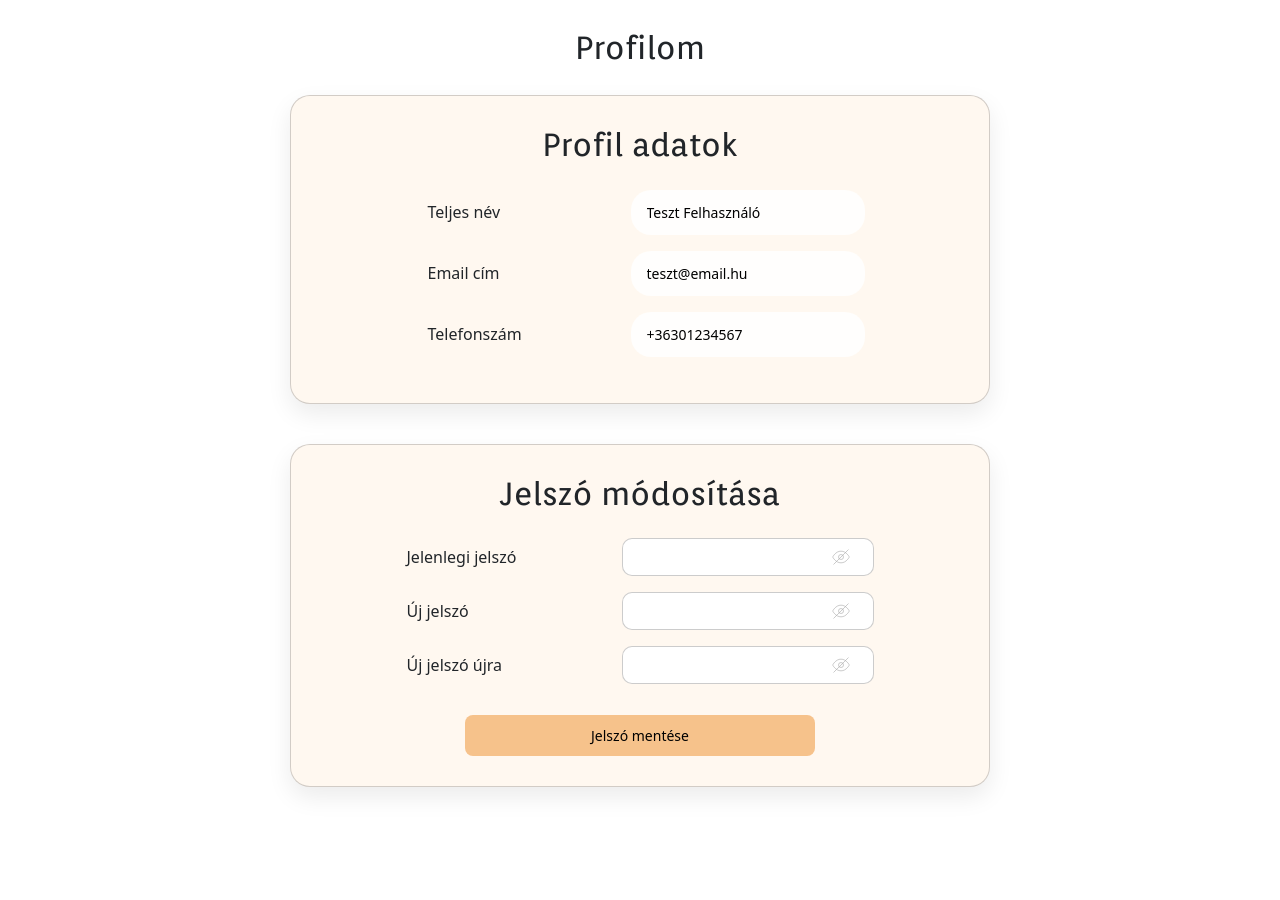
Profile › nem egyező jelszó hiba
Type "old123" into the password field next to "Jelenlegi jelszó" at (748, 557), box [622,538,874,576]
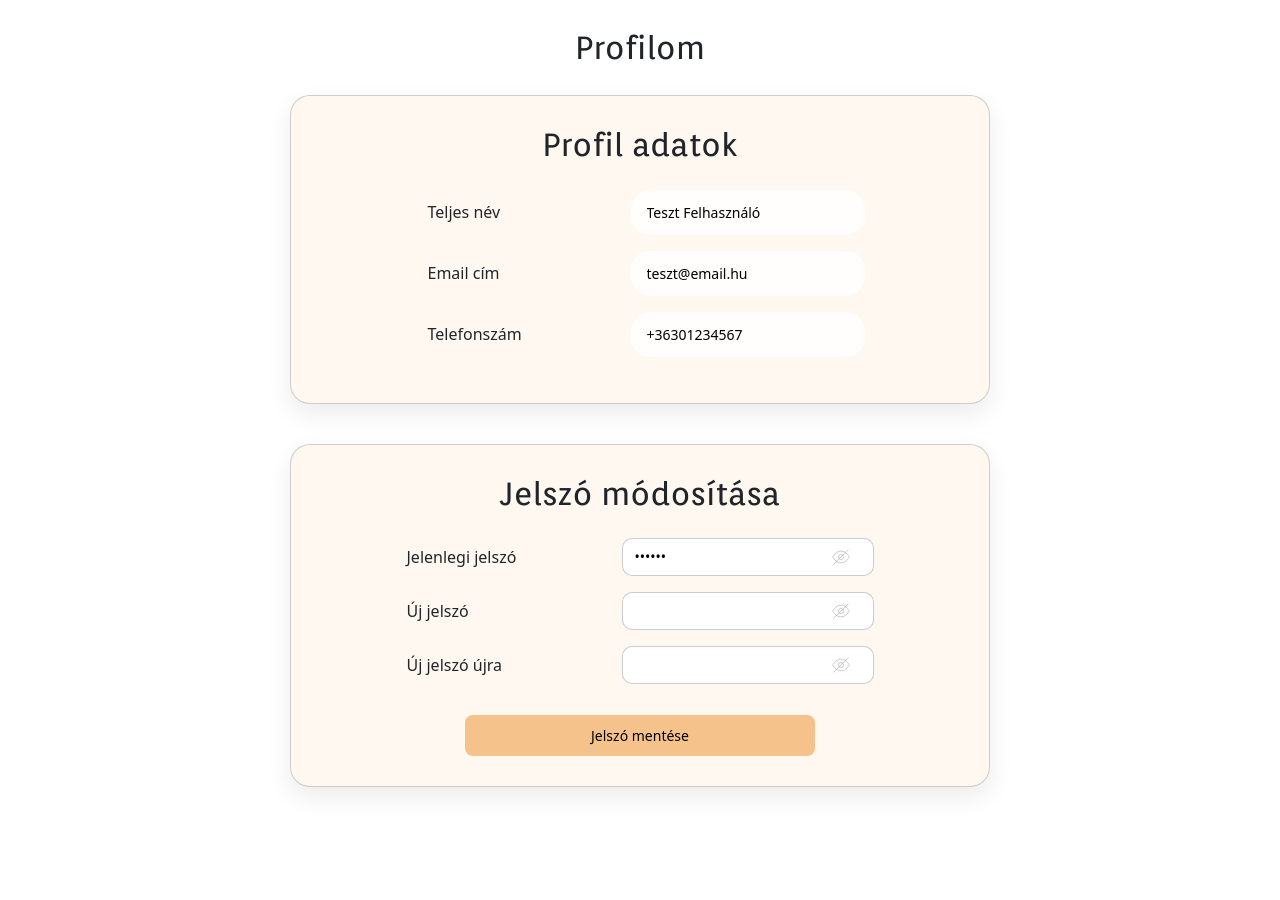
Type "new123456" into the 2nd password field at (748, 611), box [622,592,874,630]
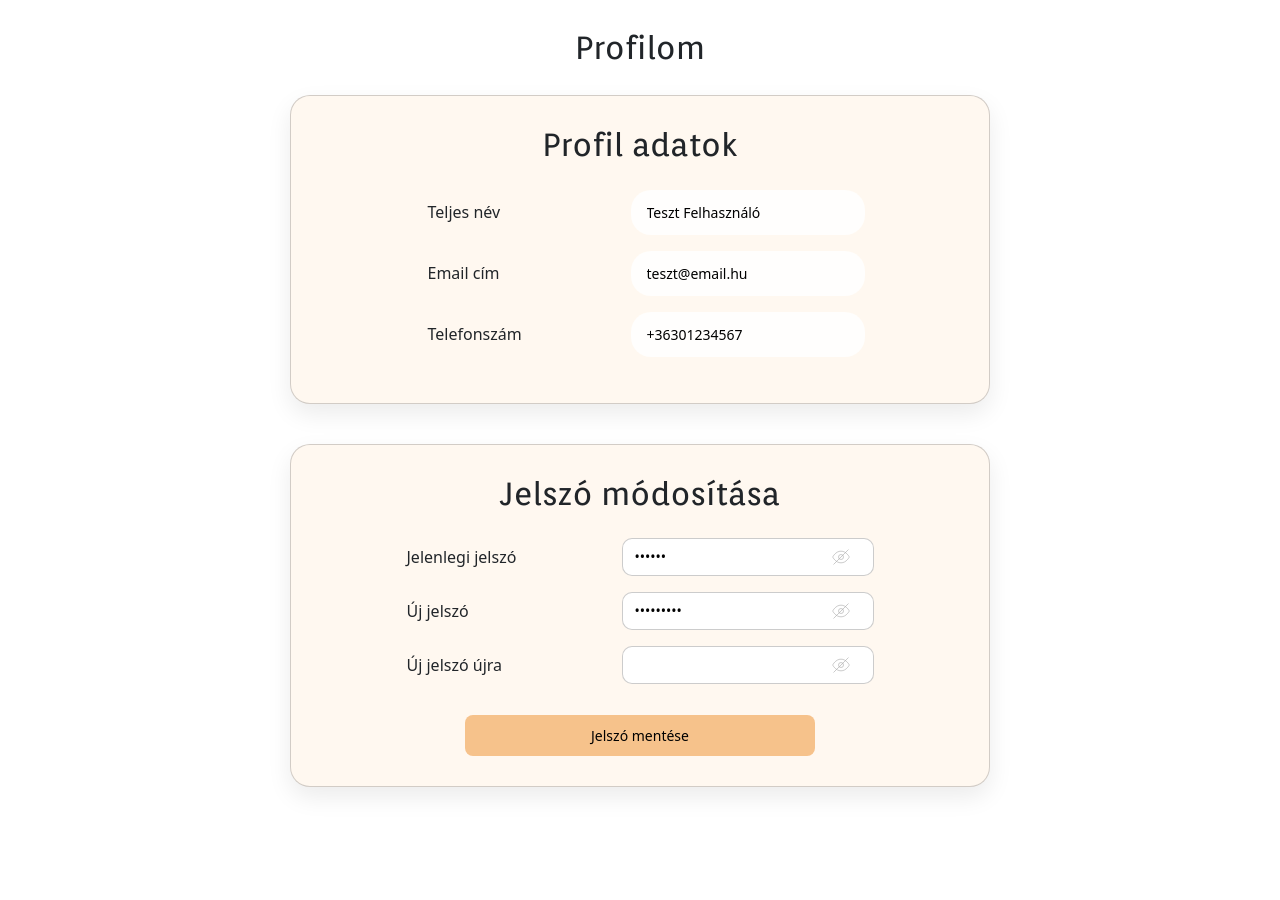
Type "rossz" into the password field next to "Új jelszó újra" at (748, 665), box [622,646,874,684]
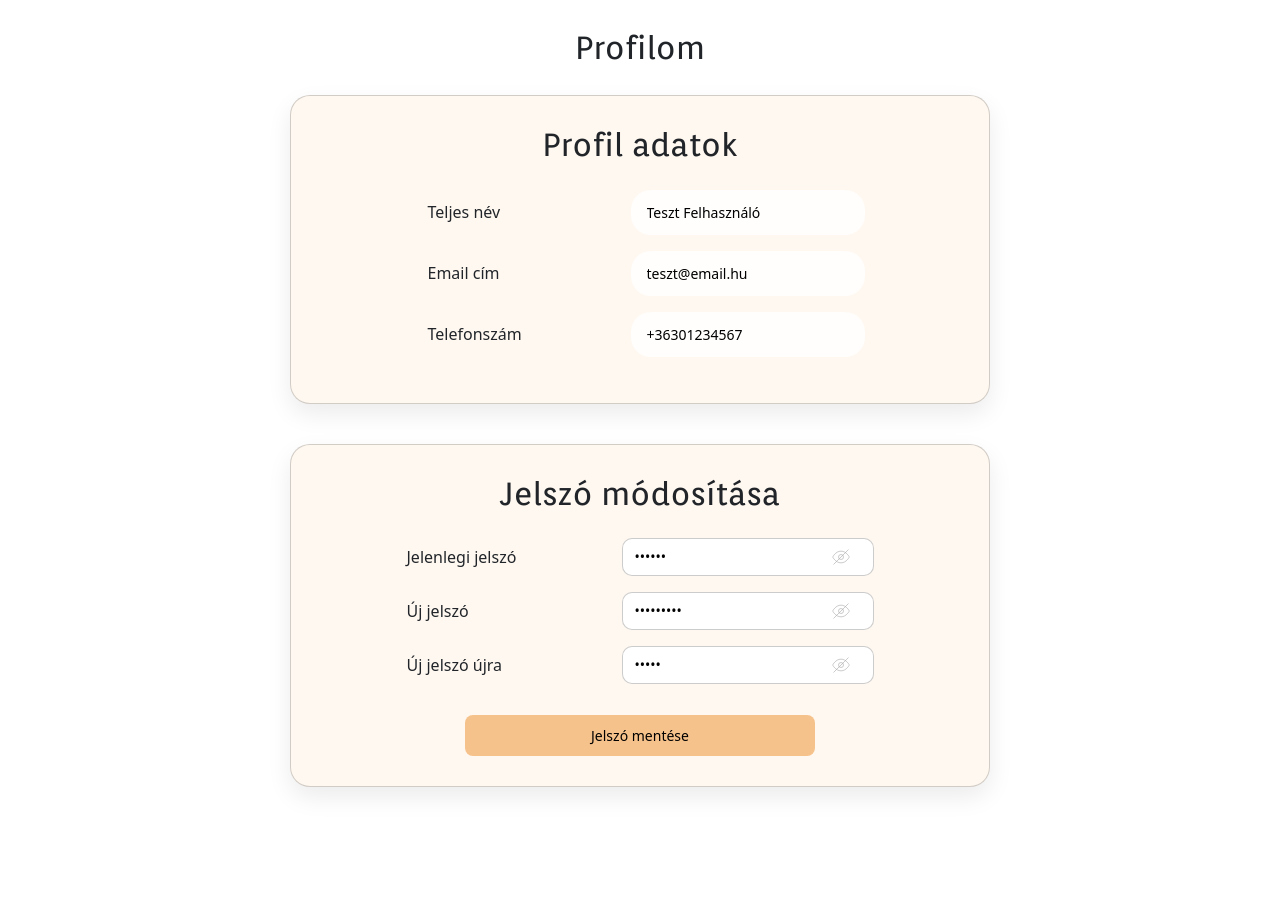
Click the button "Jelszó mentése" at (640, 736), box [465,715,815,756]
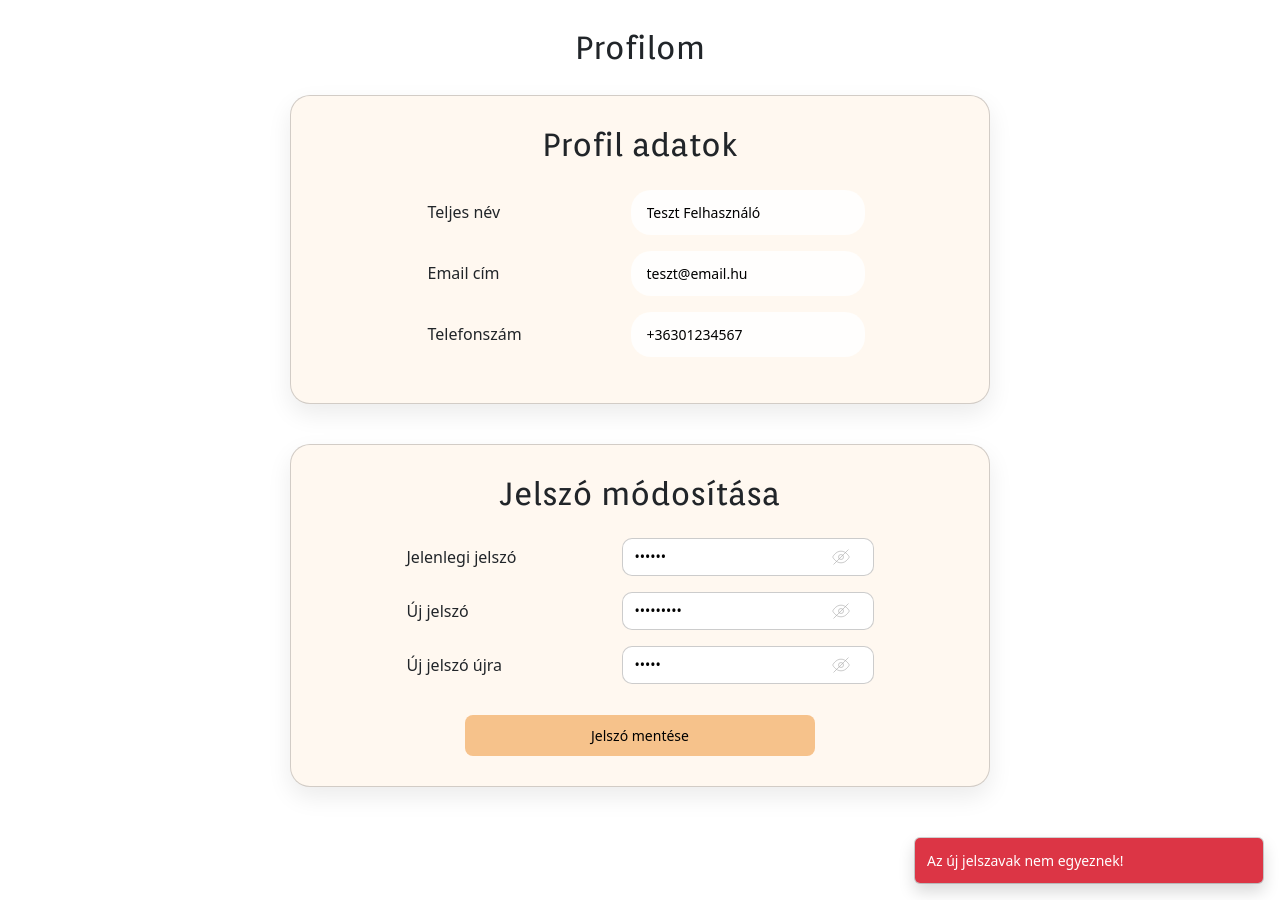
Expected: the text "Az új jelszavak nem egyeznek!" is shown, [927,851,1124,870]
